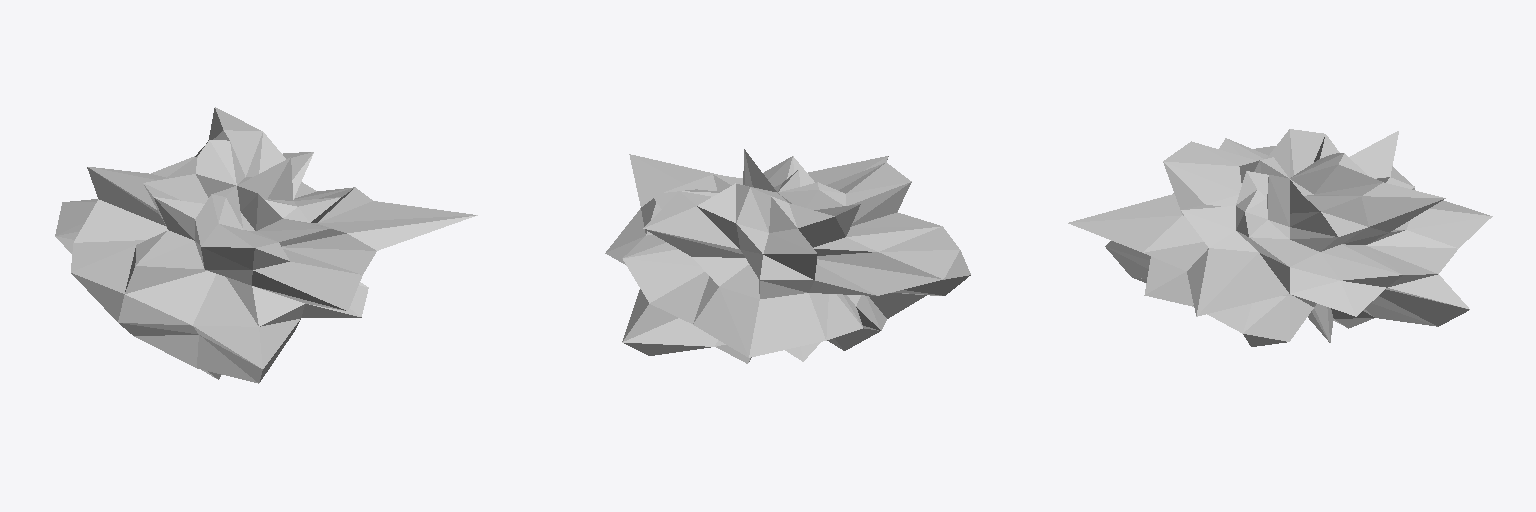
File: rock4.Obj
3 views of the same model, side by side, from view 1: azimuth 30°, elevation 25°; view 2: azimuth 150°, elevation 25°; view 3: azimuth 270°, elevation 25° (orthographic).
Visible parts, largest first — view 1: default; view 2: default; view 3: default.
Boxes of the visible parts, <box> form: default: <box>55,107,477,383</box>; default: <box>605,149,970,363</box>; default: <box>1068,129,1492,346</box>.
Size of the model in its own units: 1.61 by 0.8144 by 1.64.